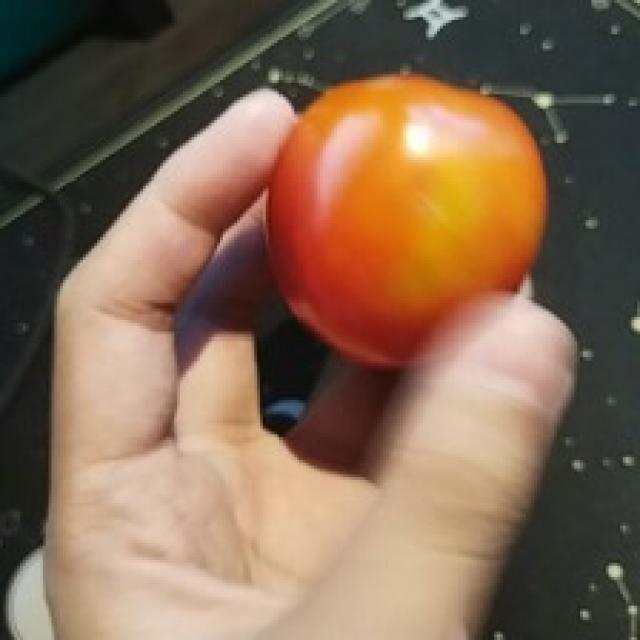Fresh Tomato: (270, 74, 548, 367)
